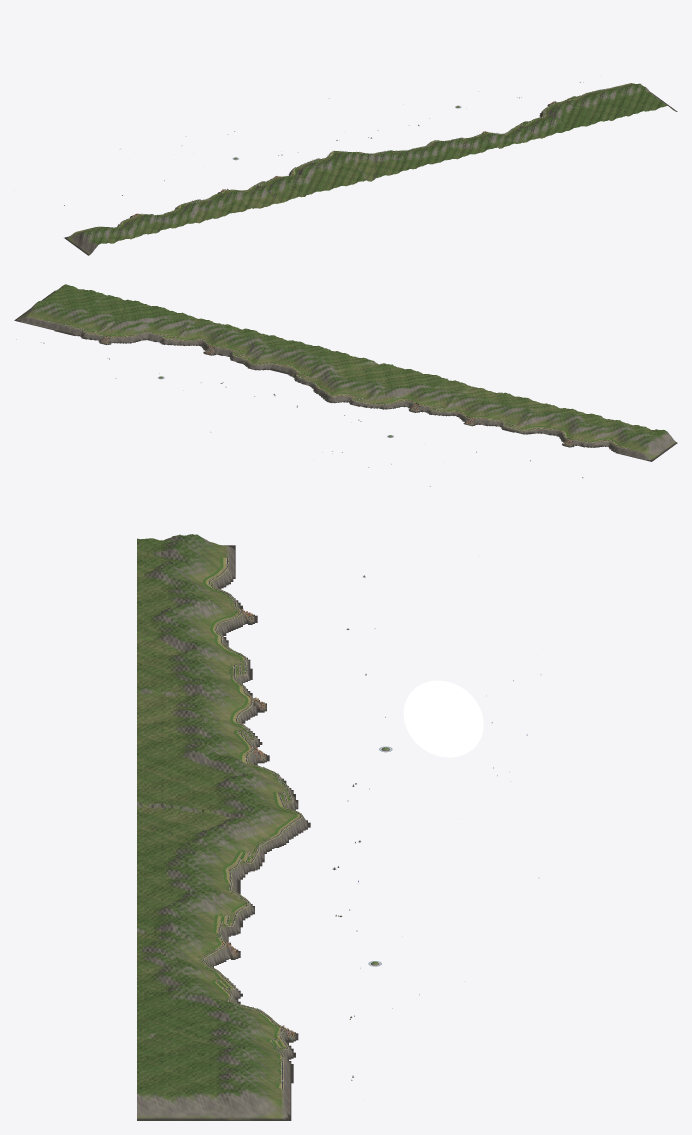
File: cinqueterre.glb
3 views of the same model, one above another, from view 1: azimuth 30°, elevation 25°; view 2: azimuth 150°, elevation 25°; view 3: azimuth 270°, elevation 25° (orthographic). The views are drawn at different scales.
Parts seen in each view (by area): view 1: Land_030, Land_001, Land_000, Land_020, Land_035, Land_007, Land_013, Land_033, Land_009, Land_012, Land_021, Land_036 (+10 smaller); view 2: Land_000, Land_030, Land_035, Land_020, Land_001, Land_036, Land_007, Land_012, Land_013, Land_021, Land_009, Land_016 (+17 smaller); view 3: Land_036, Sun, Land_030, Land_035, Land_001, Land_009, Land_020, Land_003, Land_021, Land_012, Land_018, Land_013 (+17 smaller).
Boxes of the visible parts, x1,y1,x2,y2 form: Land_030: (537,104,608,131); Land_001: (105,219,159,243); Land_000: (64,227,109,255); Land_020: (373,150,407,180); Land_035: (595,87,651,115); Land_007: (196,194,251,216); Land_013: (288,166,359,187); Land_033: (566,97,625,120); Land_009: (233,186,282,208); Land_012: (270,173,335,195); Land_021: (400,147,444,169); Land_036: (617,83,677,111); Land_000: (609,429,677,461); Land_030: (121,299,174,341); Land_035: (42,289,103,332); Land_020: (292,352,376,379); Land_001: (590,416,653,447); Land_036: (14,284,81,327); Land_007: (488,392,537,426); Land_012: (403,371,446,412); Land_013: (379,364,416,409); Land_021: (273,342,340,376); Land_009: (447,386,503,420); Land_016: (335,363,386,402); Land_036: (137,1071,291,1120); Sun: (403,680,483,757); Land_030: (137,984,254,1039); Land_035: (137,1049,293,1094); Land_001: (137,549,238,601); Land_009: (137,687,254,729); Land_020: (137,811,252,874); Land_003: (137,596,245,637); Land_021: (137,841,245,893); Land_012: (137,736,269,771); Land_018: (137,803,288,856); Land_013: (137,755,286,794).
Size of what is drawn, in the model's own units: 13560 by 2196 by 4162.
